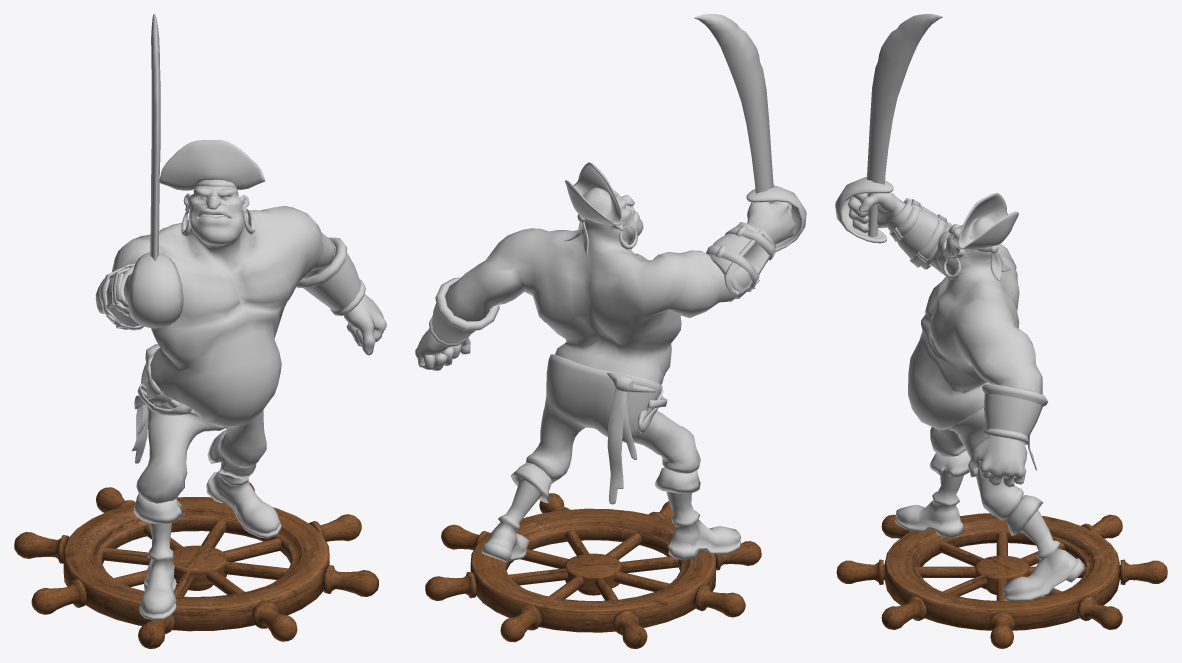
Rendered from pirate.fbx.
3 renders of one model, left to right at view 1: azimuth 30°, elevation 25°; view 2: azimuth 150°, elevation 25°; view 3: azimuth 270°, elevation 25°, orthographic. The views are drawn at different scales.
Parts seen in each view (by area): view 1: bodyp.001, thing.002, Circle.001; view 2: thing.002, bodyp.001, Circle.001; view 3: thing.002, Circle.001, bodyp.001.
Part boxes in pixels (<box>): bodyp.001: <box>111,186,386,427</box>; thing.002: <box>95,14,365,620</box>; Circle.001: <box>14,482,378,648</box>; thing.002: <box>429,14,806,562</box>; bodyp.001: <box>415,190,794,384</box>; Circle.001: <box>425,493,761,648</box>; thing.002: <box>835,14,1084,601</box>; Circle.001: <box>836,513,1167,648</box>; bodyp.001: <box>848,192,1042,487</box>.
Bounding box in the file's own units: 12.39 × 20.87 × 11.64.
